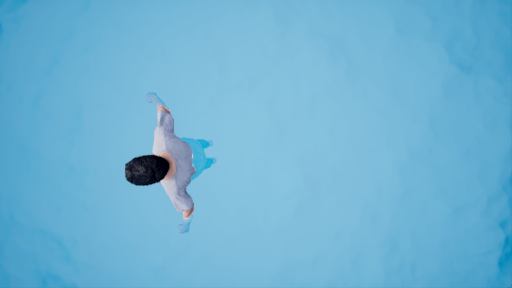person: (126, 86, 219, 240)
